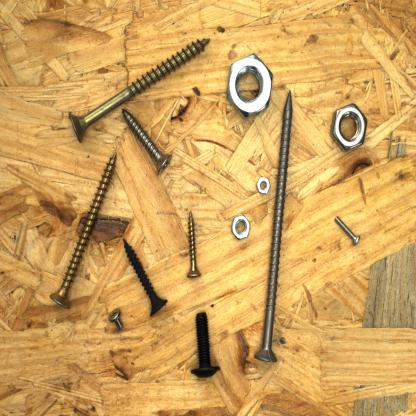screw: (66, 35, 213, 146), (252, 87, 295, 366), (47, 149, 118, 312), (121, 236, 170, 320), (119, 105, 175, 178), (186, 310, 224, 380), (183, 208, 203, 283), (333, 213, 363, 247), (106, 304, 125, 332)
